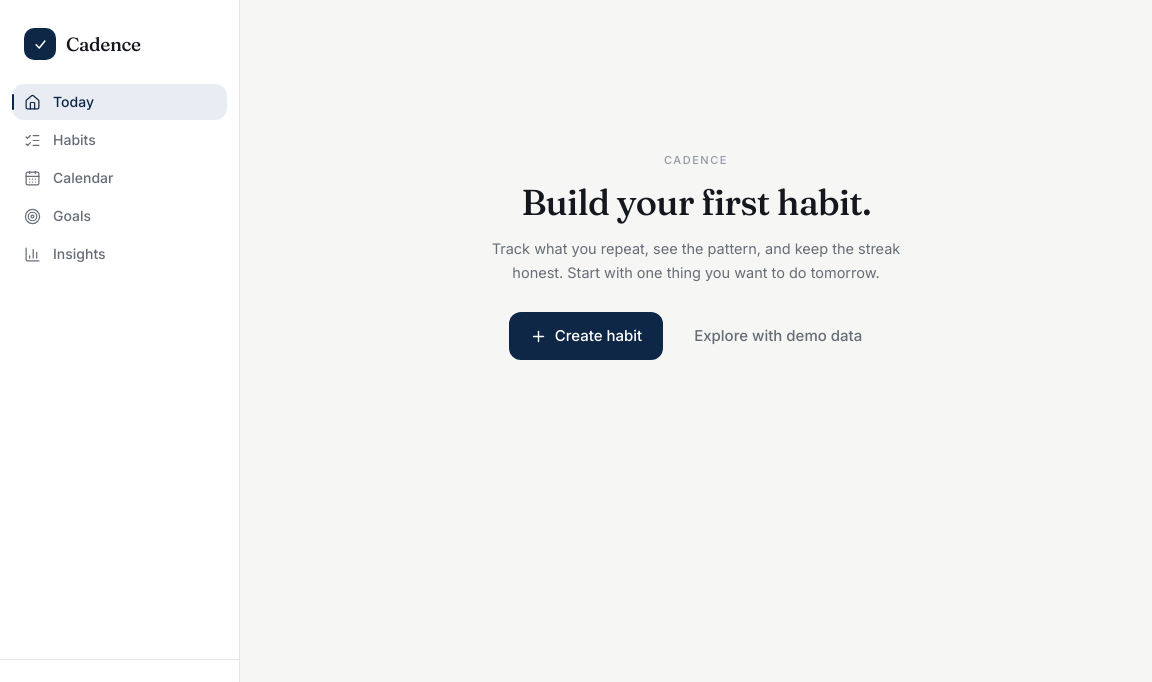
Test case: first run › fills the app from the demo data button
Click the button "Explore with demo data". click: {"x": 778, "y": 336}
box: [673,312,883,360]
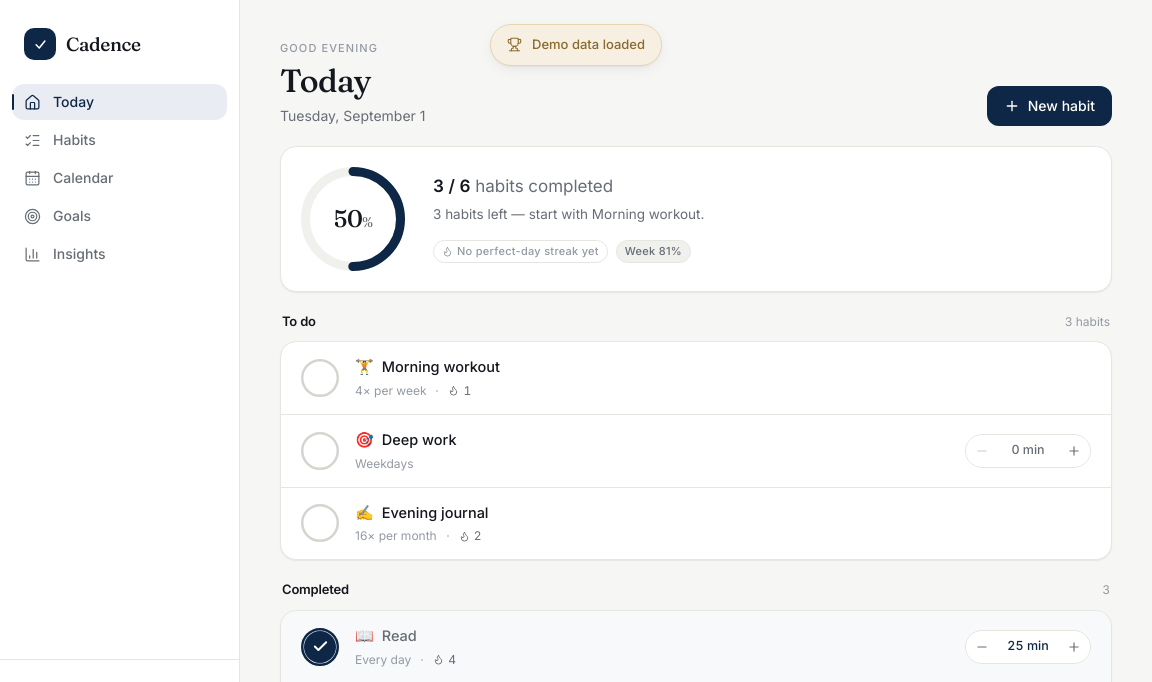
expect the heading "Today" is shown: met, box [280,60,371,100]
